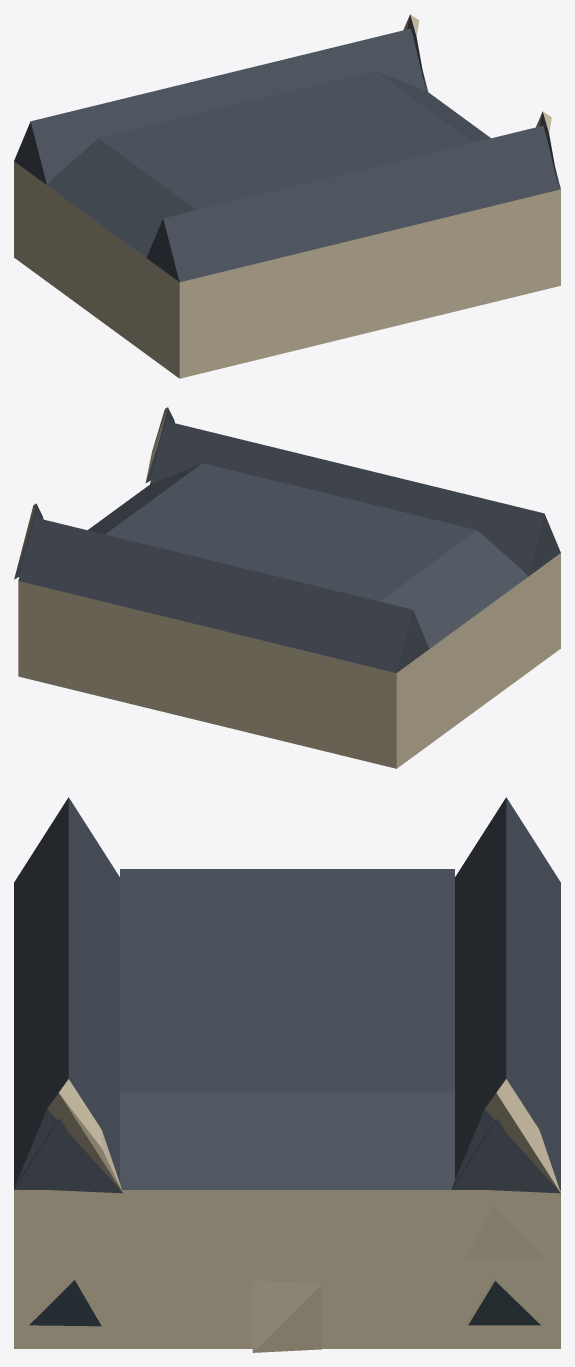
File: de-balie.lod2.glb
3 views of the same model, one above another, from view 1: azimuth 30°, elevation 25°; view 2: azimuth 150°, elevation 25°; view 3: azimuth 270°, elevation 25° (orthographic). The views are drawn at different scales.
Parts seen in each view (by area): view 1: lod2; view 2: lod2; view 3: lod2.
Part boxes in pixels (x1,y1,x2,y2): lod2: [14, 14, 560, 378]; lod2: [14, 407, 560, 768]; lod2: [14, 797, 560, 1352].
Size of the model in its own units: 44.4 by 17.9 by 33.
